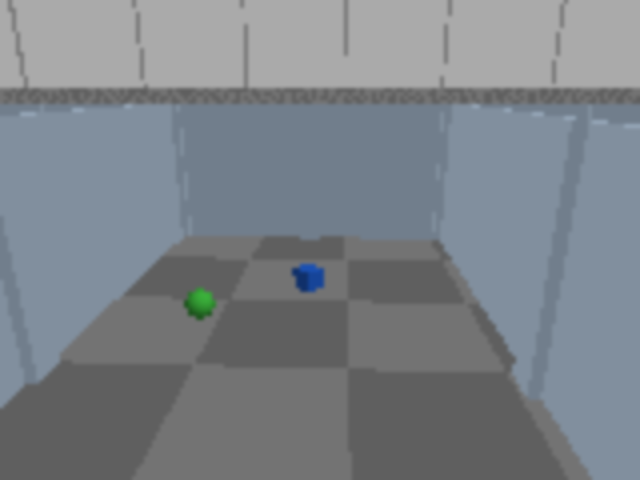puck: (178, 283, 222, 326), (294, 263, 322, 293)
